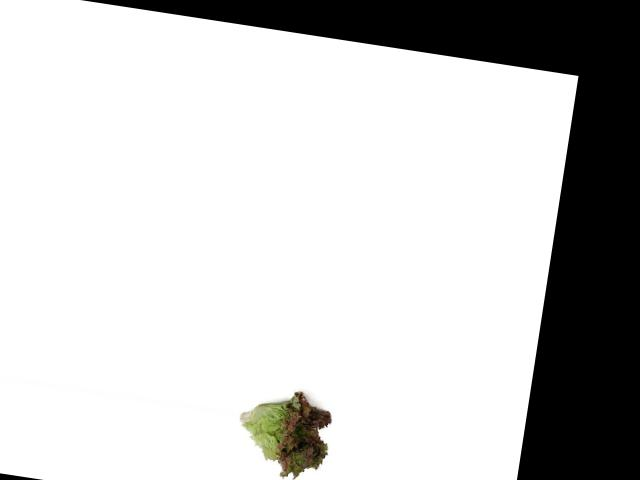lettuce: (229, 375, 348, 480)
